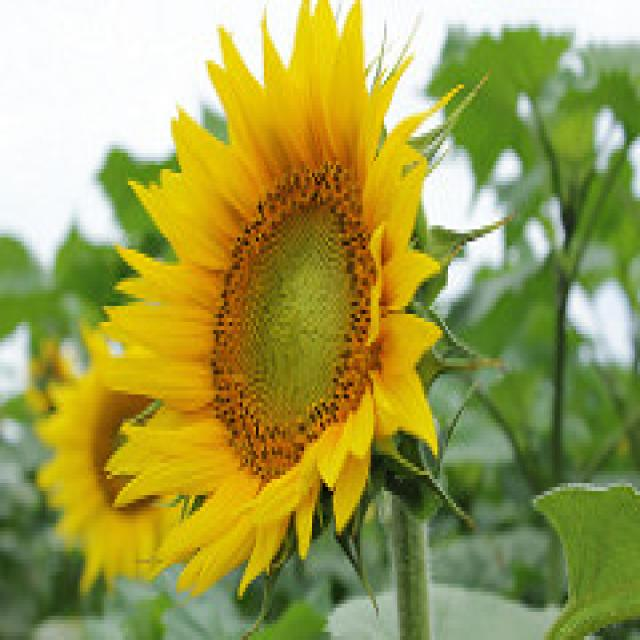sunflower: (73, 10, 452, 598)
